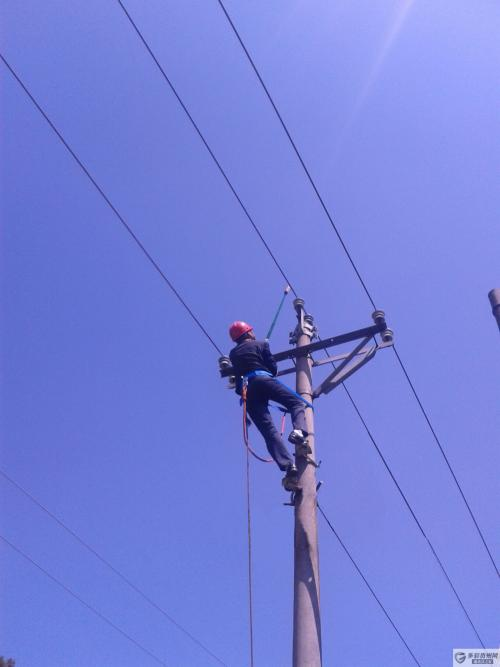boots: (282, 467, 302, 491)
gloves: (288, 428, 308, 444)
hard-hat: (228, 319, 253, 342)
person: (227, 320, 311, 492)
ppe-suit: (223, 320, 312, 492)
